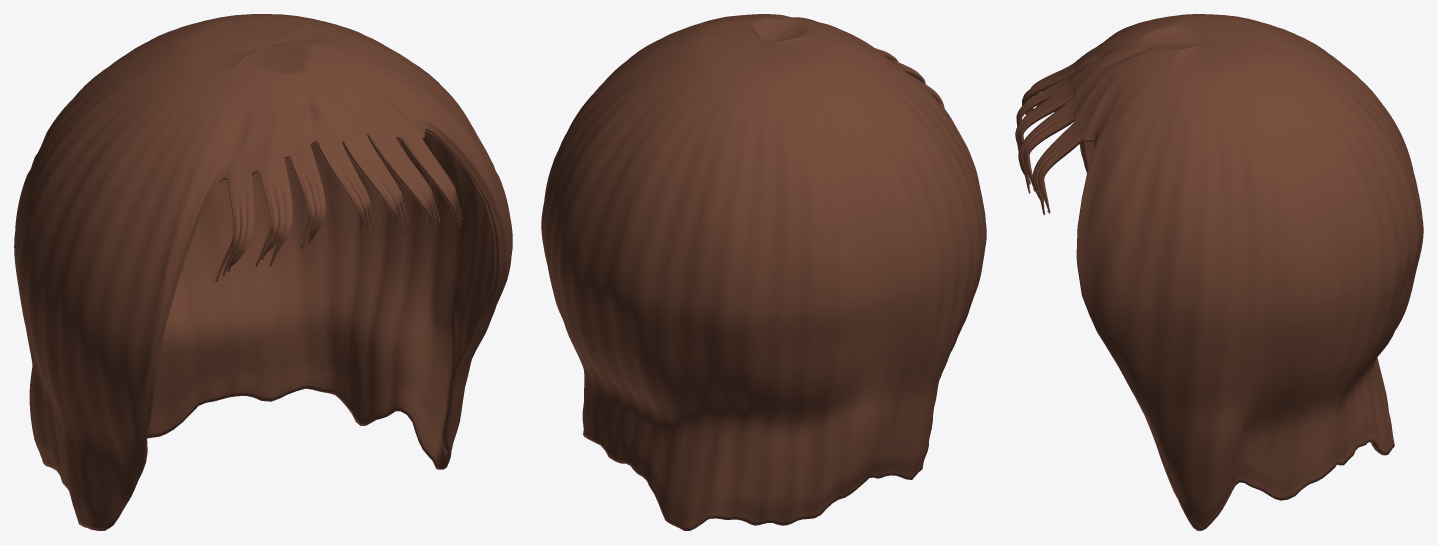
The model's file is side-sweep-cowboy.glb.
3 views of the same model, side by side, from view 1: azimuth 30°, elevation 25°; view 2: azimuth 150°, elevation 25°; view 3: azimuth 270°, elevation 25° (orthographic). The views are drawn at different scales.
Visible parts, largest first — view 1: Wispy bangs / continuous crown; view 2: Wispy bangs / continuous crown; view 3: Wispy bangs / continuous crown.
Part boxes in pixels (<box>): Wispy bangs / continuous crown: <box>14,14,512,530</box>; Wispy bangs / continuous crown: <box>541,14,986,530</box>; Wispy bangs / continuous crown: <box>1015,14,1423,530</box>.
Bounding box in the file's own units: 0.8388 × 0.8725 × 0.7734.
